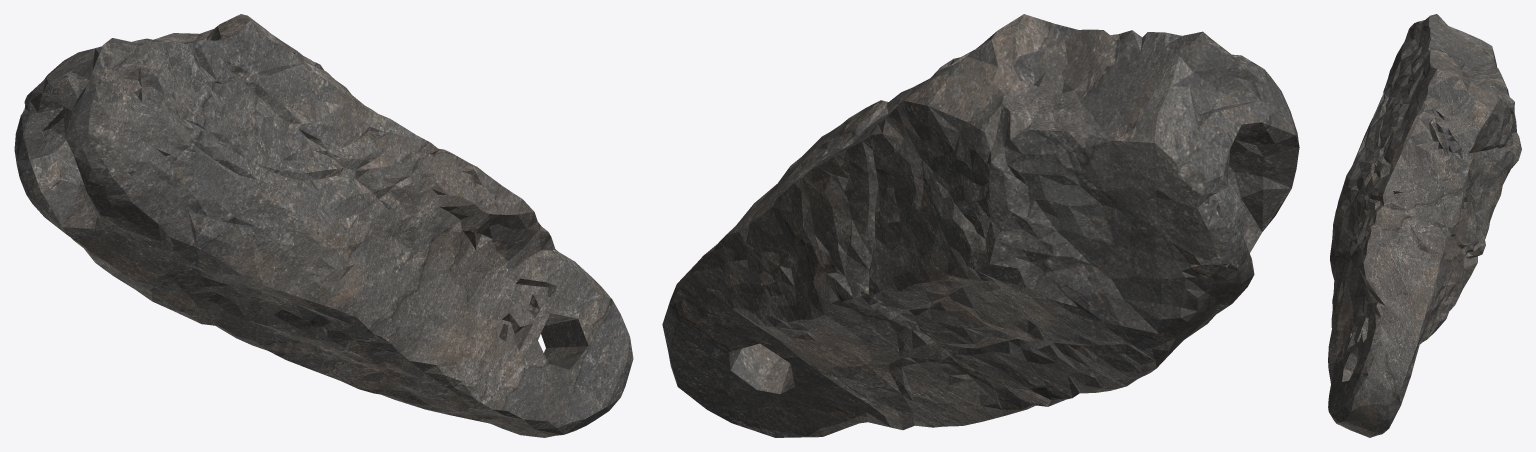
The model's file is rocky_pata_izquierda_superior.obj.
3 renders of one model, left to right at view 1: azimuth 30°, elevation 25°; view 2: azimuth 150°, elevation 25°; view 3: azimuth 270°, elevation 25°, orthographic. The views are drawn at different scales.
Size of the model in its own units: 0.3834 by 0.3137 by 0.1874.
1 material, 1 textured.
